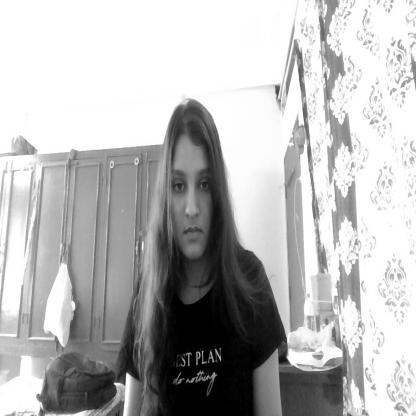Normal: (160, 100, 227, 264)
